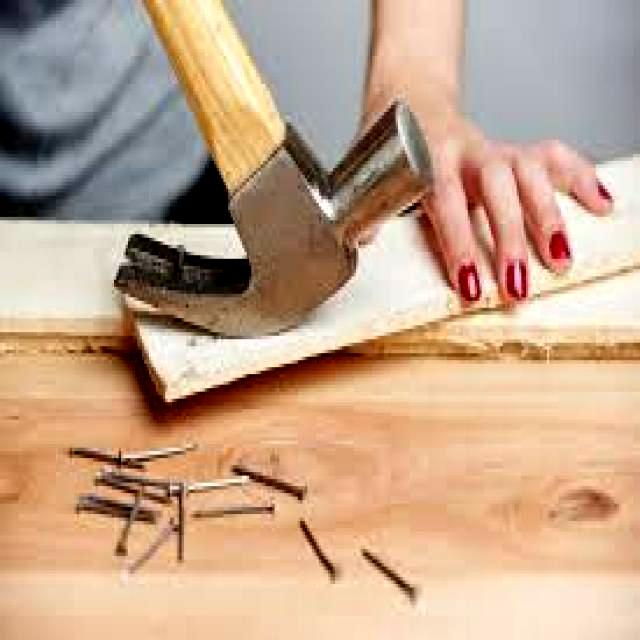hammer: (100, 0, 442, 364)
